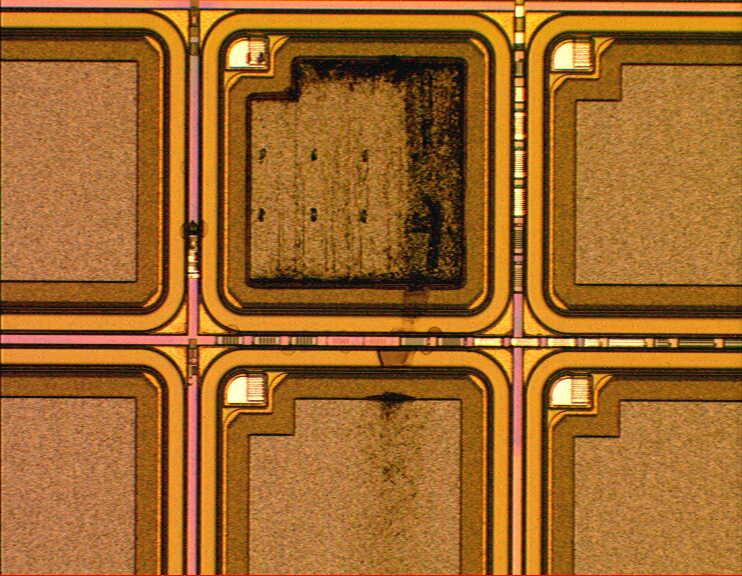SEZ BURNT: (246, 55, 471, 575)
